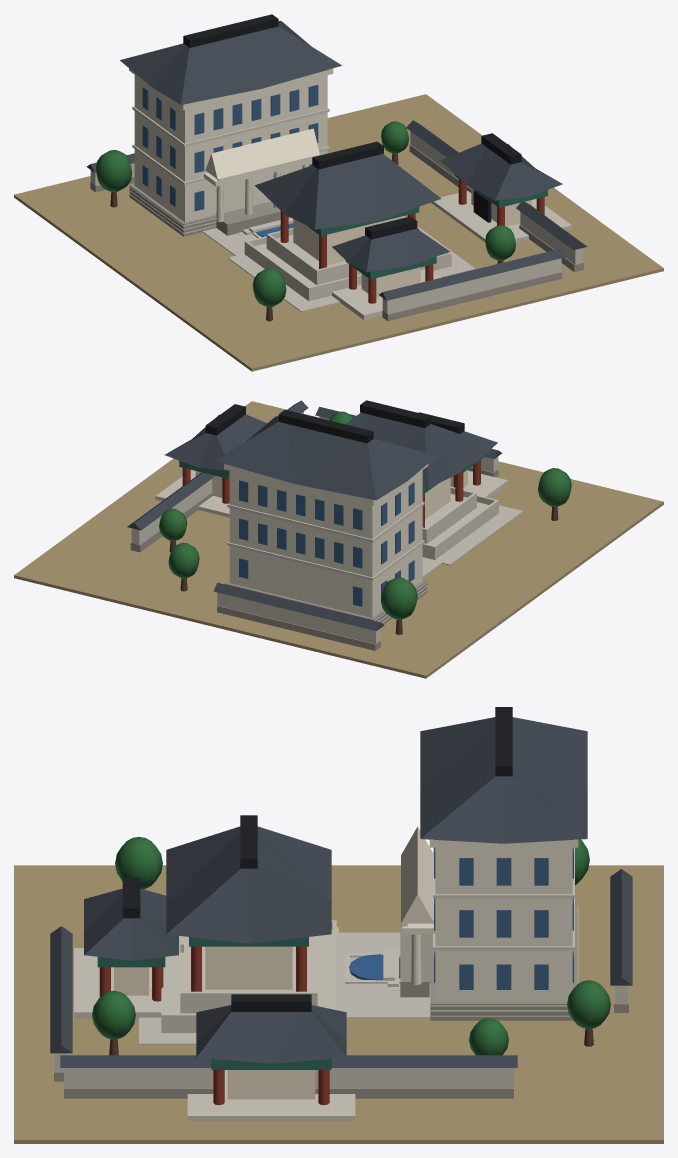
Rendered from deoksugung.glb.
3 views of the same model, one above another, from view 1: azimuth 30°, elevation 25°; view 2: azimuth 150°, elevation 25°; view 3: azimuth 270°, elevation 25° (orthographic). The views are drawn at different scales.
Size of the model in its own units: 52 by 21.02 by 52.
